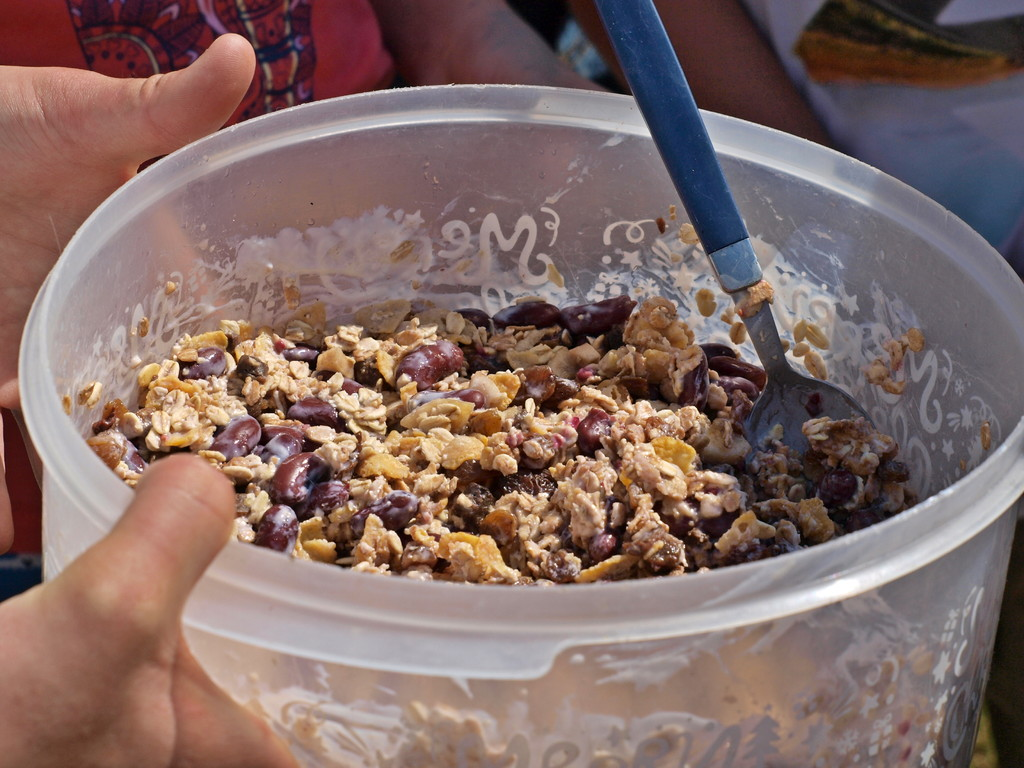Human_hand: (0, 31, 259, 554), (17, 435, 258, 762)
